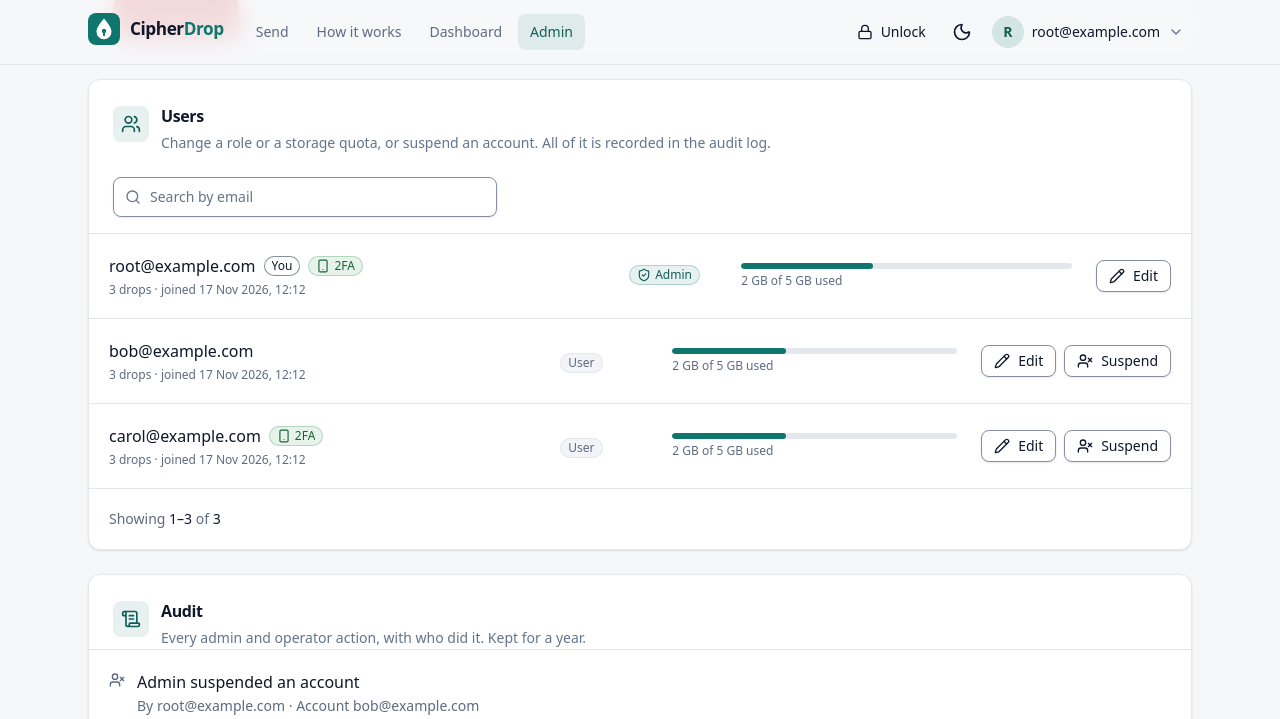
Scenario: AdminPage users › sends only what changed, warns below usage, and locks your own role
The image size is (1280, 719).
(page scrolled)
Step 1. Click the 2nd button "Edit" → (1019, 360), box 981,344 -> 1056,376
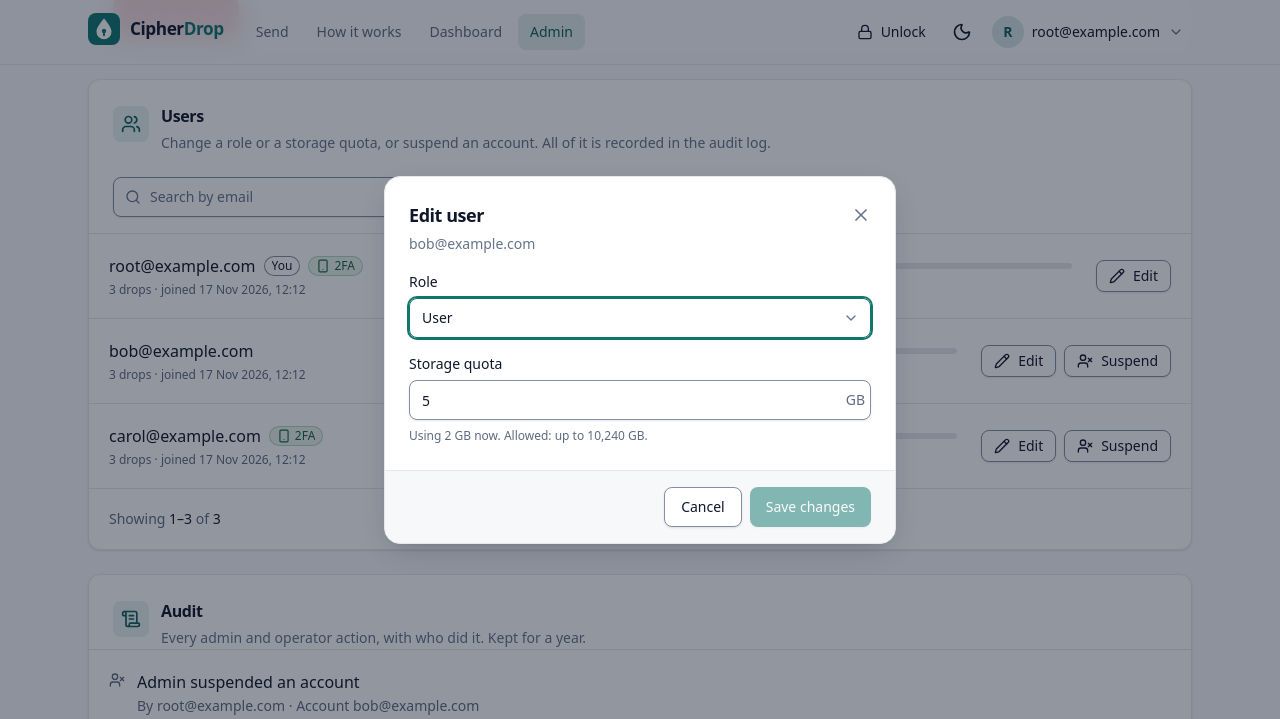
Result: the button "Save changes" is disabled at 750,487 -> 871,527
Step 2. Clear the field labelled "Storage quota" → (640, 400), box 409,380 -> 871,420
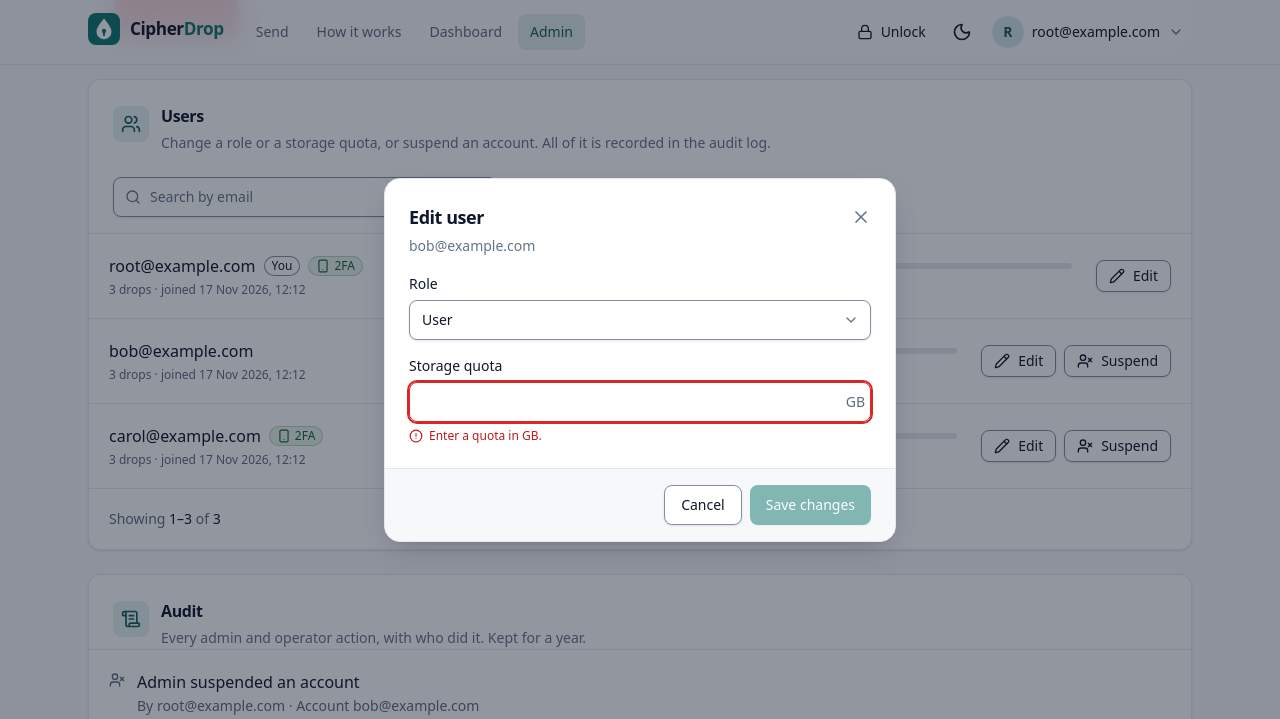
Step 3. Type "1" into the field labelled "Storage quota" → (640, 402), box 409,382 -> 871,422
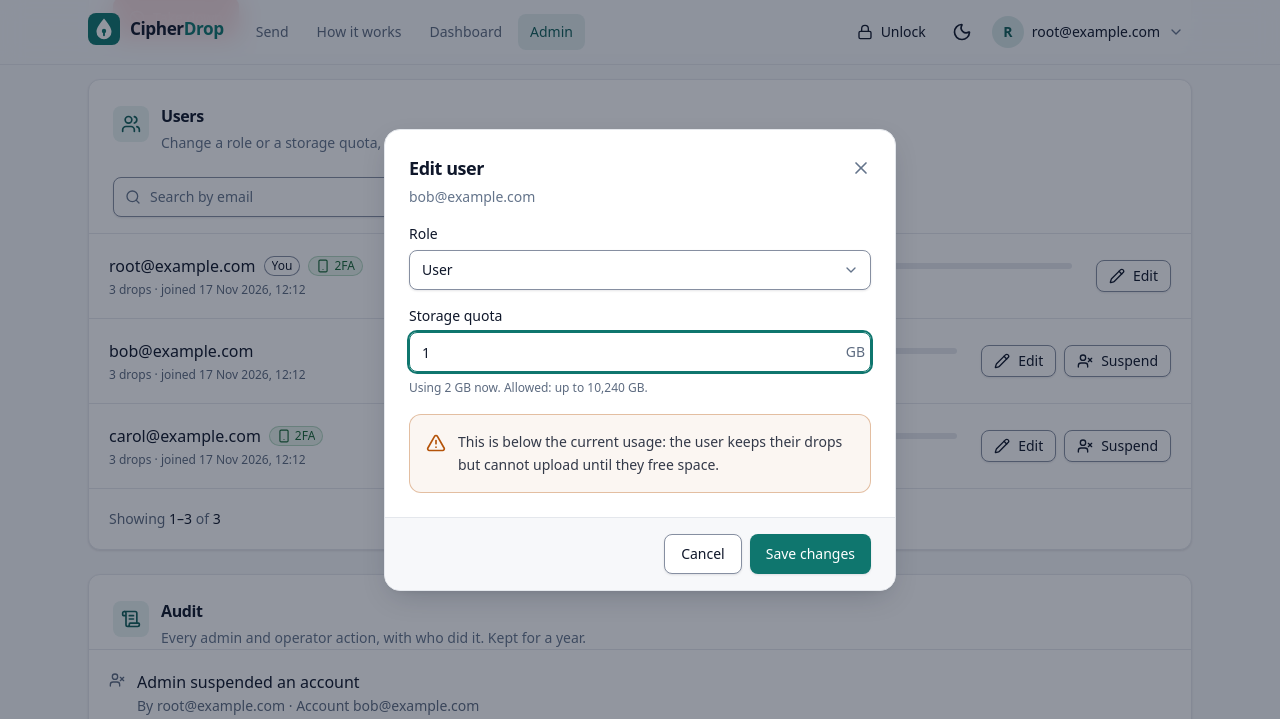
Result: the text "below the current usage" is shown at 458,432 -> 842,474
Step 4. Click the button "Save changes" → (810, 554), box 750,534 -> 871,574
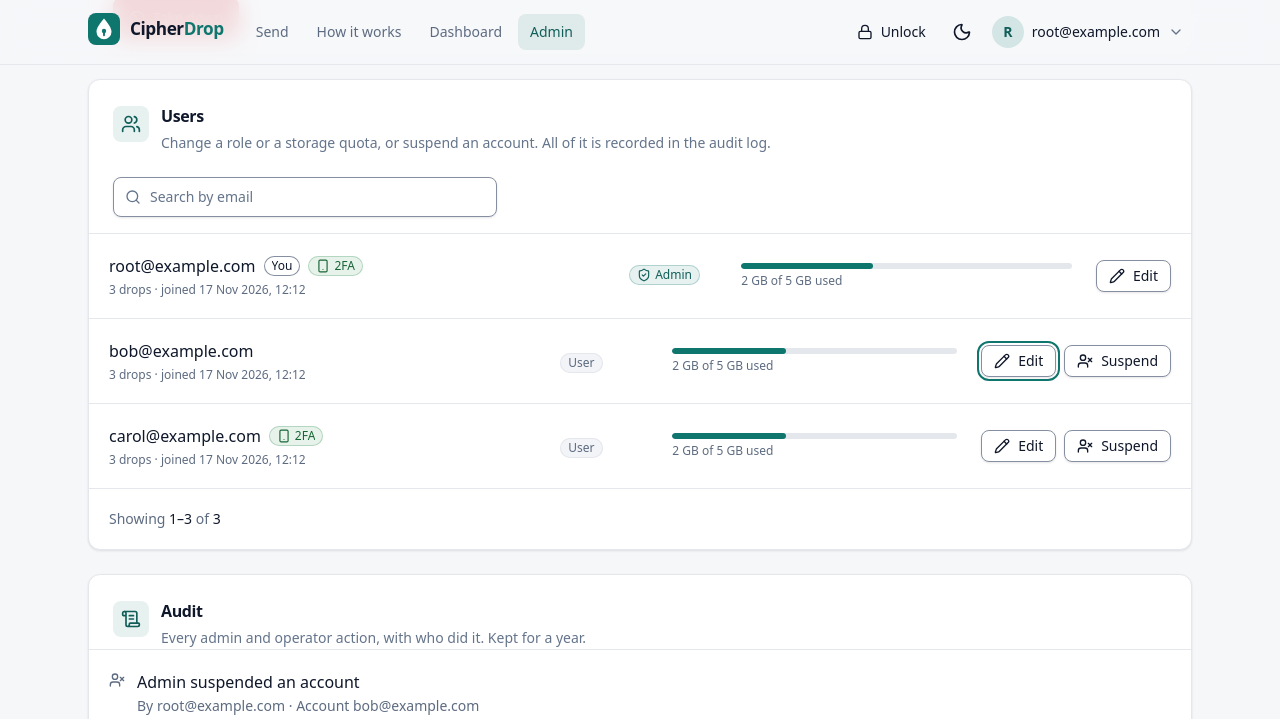
Result: the dialog is gone
Step 5. Click the 1st button "Edit" → (1133, 276), box 1096,260 -> 1171,292
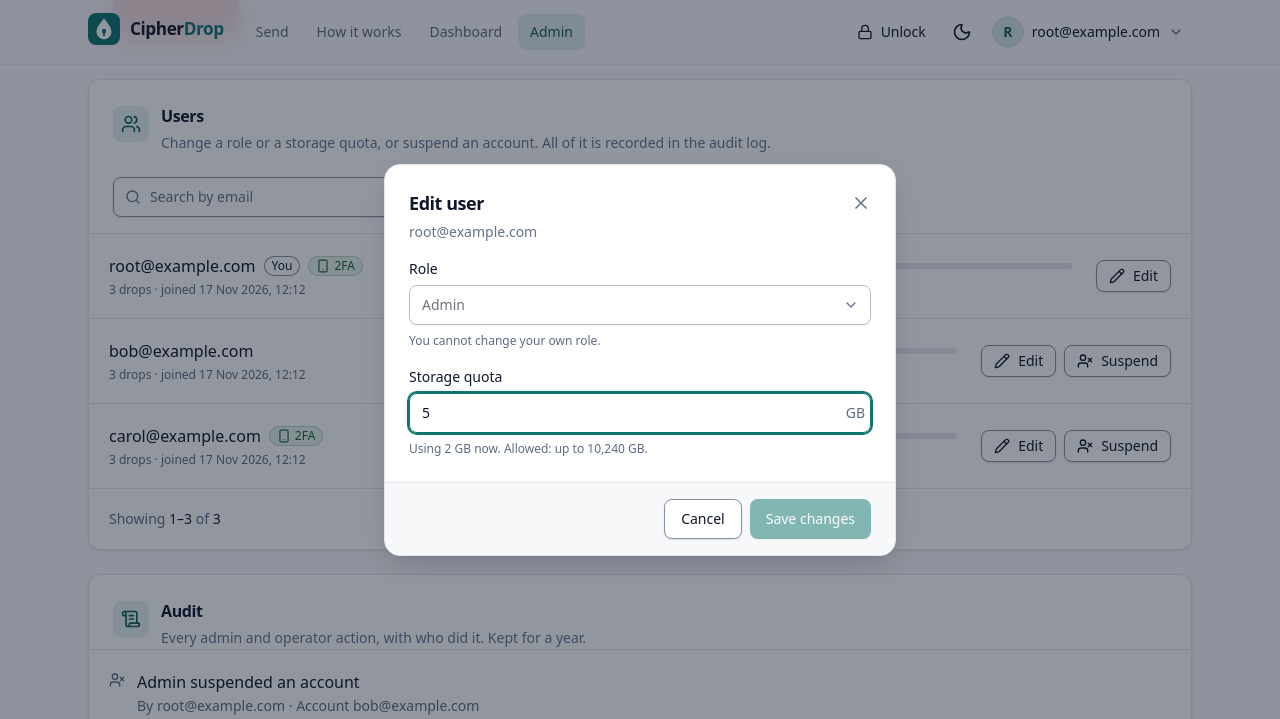
Result: the dropdown labelled "Role" is disabled at 409,285 -> 871,325
Result: the text "You cannot change your own role." is shown at 409,332 -> 600,349
